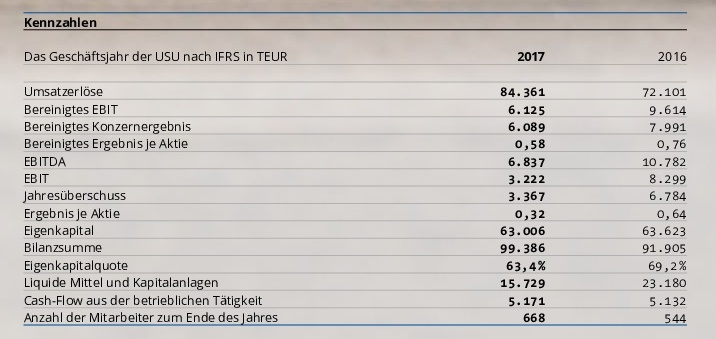table: (0, 0, 716, 339)
